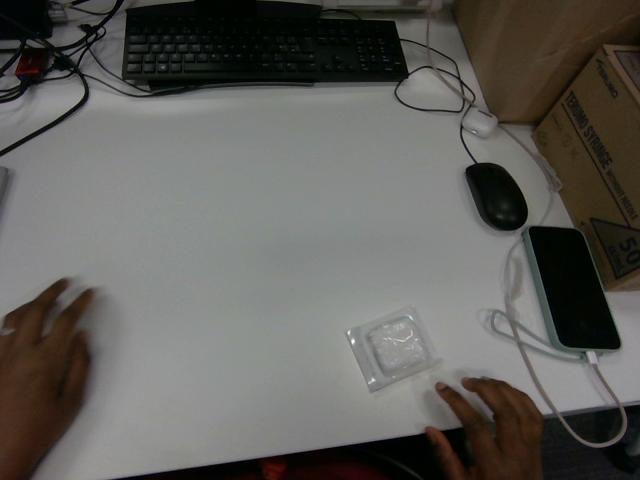gauze: (346, 306, 440, 391)
